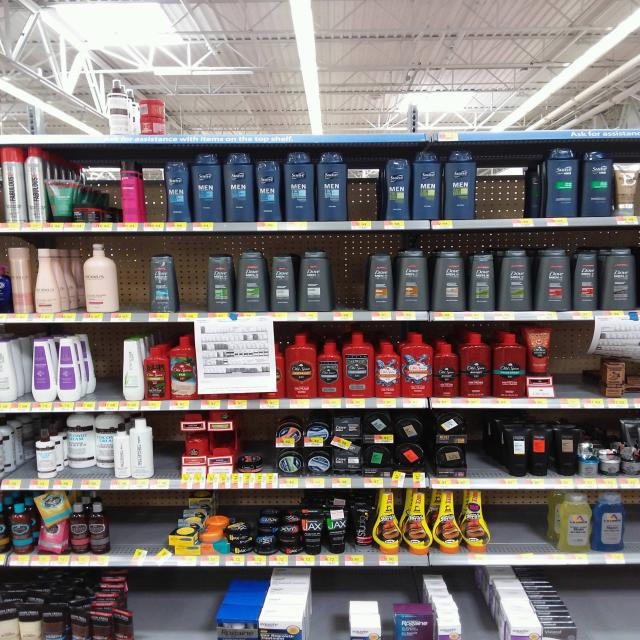void: (578, 564, 640, 640), (176, 49, 214, 144), (282, 52, 322, 141), (461, 566, 507, 640), (562, 319, 601, 406), (245, 50, 280, 144), (426, 53, 462, 142), (472, 409, 511, 490), (319, 52, 353, 144), (33, 55, 68, 144), (462, 54, 497, 142), (307, 567, 349, 640), (86, 324, 120, 412), (570, 55, 606, 138), (392, 52, 424, 144), (210, 51, 242, 143), (70, 56, 104, 142), (534, 56, 568, 141), (498, 56, 532, 141), (356, 53, 388, 142), (508, 146, 543, 227), (605, 56, 640, 137), (178, 568, 218, 638), (0, 57, 31, 144), (479, 147, 512, 228), (142, 566, 177, 640), (352, 146, 383, 229), (493, 492, 527, 566), (528, 490, 559, 567), (121, 238, 148, 323), (336, 236, 362, 320), (180, 234, 204, 322), (138, 492, 166, 566), (113, 490, 138, 566)
